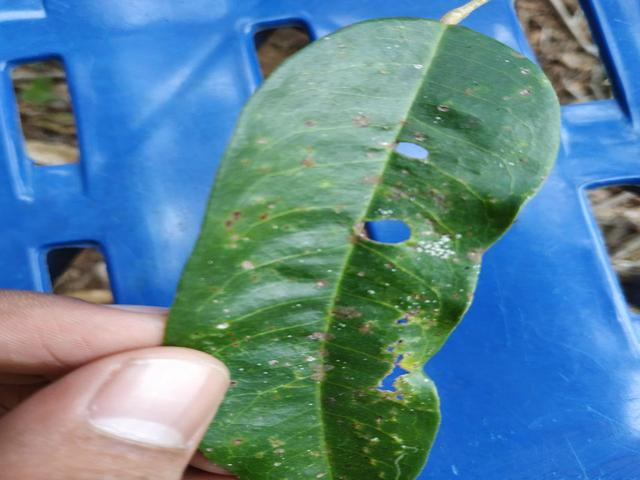blight spot: (376, 288, 423, 421), (344, 205, 426, 260), (381, 132, 440, 174)
